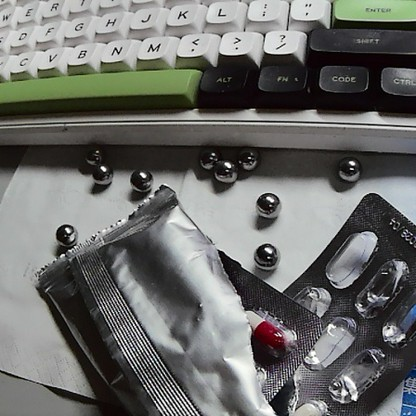ironball: (332, 150, 362, 194), (253, 185, 284, 220), (210, 160, 243, 187), (252, 241, 282, 269), (50, 222, 80, 246), (233, 147, 261, 171), (90, 157, 114, 184), (127, 166, 152, 190), (194, 147, 219, 170), (83, 137, 103, 158)
